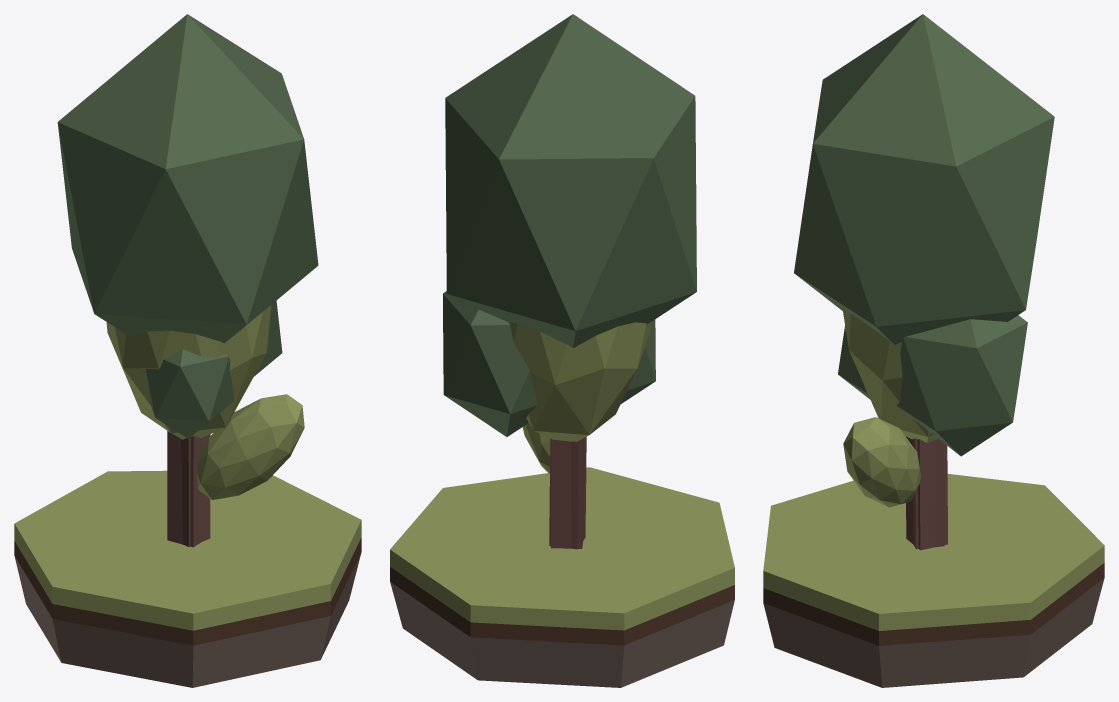
The model's file is CampingSet.fbx.
3 renders of one model, left to right at view 1: azimuth 30°, elevation 25°; view 2: azimuth 150°, elevation 25°; view 3: azimuth 270°, elevation 25°, orthographic.
Visible parts, largest first — view 1: Camping_Tree_1, Camping_Tile_1, Camping_Tree_2; view 2: Camping_Tree_1, Camping_Tile_1, Camping_Tree_2; view 3: Camping_Tree_1, Camping_Tile_1, Camping_Tree_2.
Part boxes in pixels (x1,y1,x2,y2): Camping_Tree_1: (57,14,318,546); Camping_Tile_1: (14,470,361,687); Camping_Tree_2: (106,305,304,547); Camping_Tree_1: (443,14,696,549); Camping_Tile_1: (390,467,734,687); Camping_Tree_2: (508,322,650,548); Camping_Tree_1: (794,14,1054,549); Camping_Tile_1: (763,474,1104,687); Camping_Tree_2: (842,309,947,550).
Size of the model in its own units: 244 by 477 by 241.
